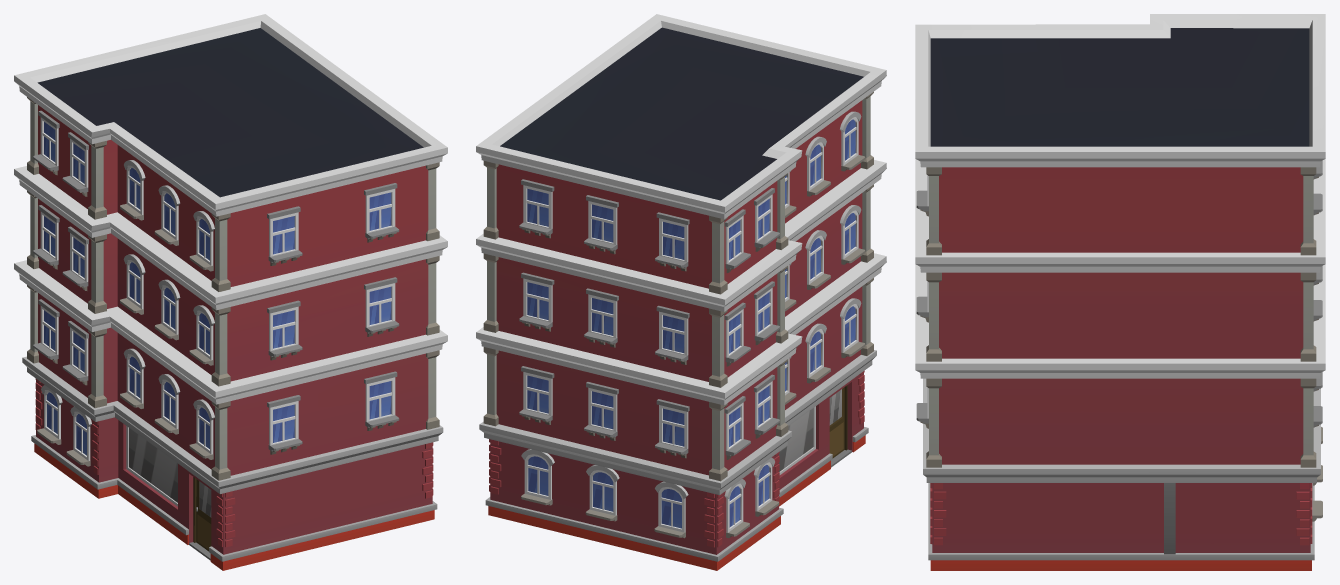
The model's file is Building_1_4_H.fbx.
3 renders of one model, left to right at view 1: azimuth 30°, elevation 25°; view 2: azimuth 150°, elevation 25°; view 3: azimuth 270°, elevation 25°, orthographic. The views are drawn at different scales.
Visible parts, largest first — view 1: Building_1_4_H; view 2: Building_1_4_H; view 3: Building_1_4_H.
Part boxes in pixels (x1,y1,x2,y2): Building_1_4_H: (14, 14, 447, 570); Building_1_4_H: (476, 14, 886, 570); Building_1_4_H: (915, 14, 1325, 570).
Bounding box in the file's own units: 841 × 1201 × 1057.
